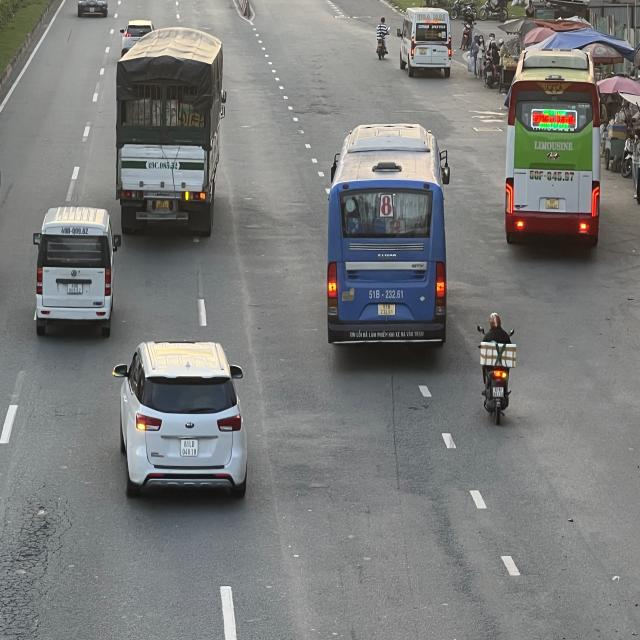car: (117, 341, 251, 500)
coach: (324, 118, 454, 347), (506, 24, 602, 248)
truck: (116, 27, 227, 239)
van: (34, 204, 121, 332), (398, 5, 452, 75)
